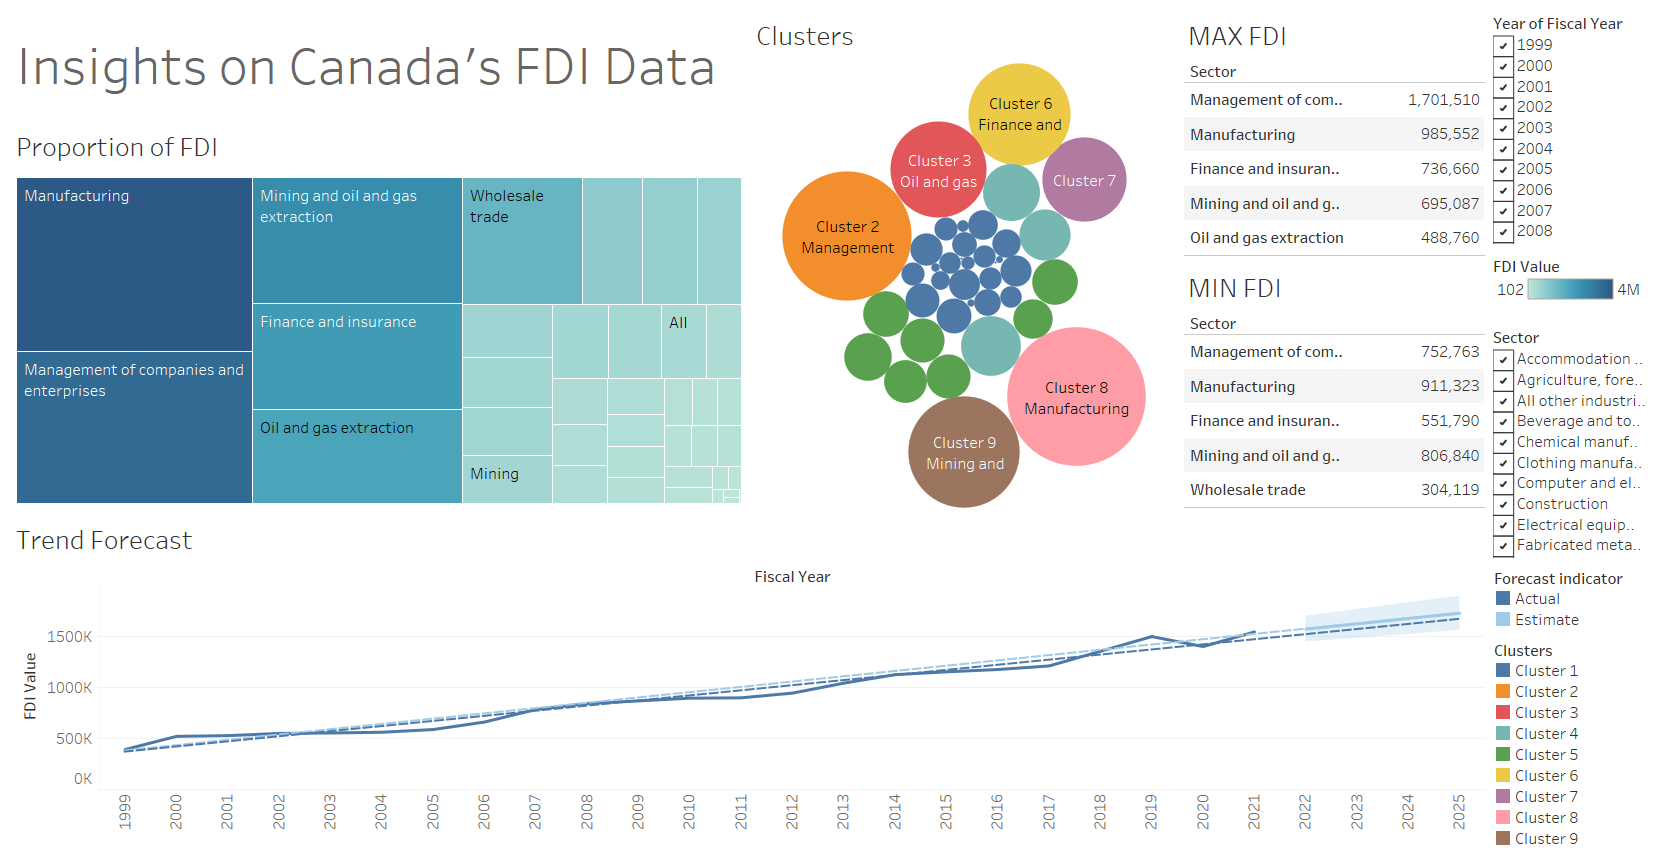

Layout of this report page (visuals, bound fields, positions):
{"tool":"tableau","page":{"name":"Dashboard","canvas":[1000,1000],"units":"permille","ordinal":0},"visuals":[{"type":"text","box":[4.8,9.3,446.9,128.9]},{"type":"worksheet","title":"Clusters","mark":"Circle","box":[451.7,9.3,260.4,585.4]},{"type":"worksheet","title":"MAX FDI","mark":"Automatic","rows":["Calculation_1230045672862732288"],"box":[712.1,9.3,186.5,292.7]},{"type":"filter","title":"Proportion of FDI","param":"[federated.0bxwgq110ndous11dt6810bz9tdn].[yr:Pivot Field Names:ok]","box":[898.6,9.3,96.6,279.3]},{"type":"worksheet","title":"Proportion of FDI","mark":"Automatic","box":[4.8,138.2,446.9,456.4]},{"type":"legend","title":"Proportion of FDI","param":"[federated.0bxwgq110ndous11dt6810bz9tdn].[sum:Pivot Field Values:qk]","box":[898.6,288.6,96.6,84.8]},{"type":"worksheet","title":"MIN FDI","mark":"Automatic","rows":["Calculation_1230045672862732288"],"box":[712.1,302,186.5,292.7]},{"type":"filter","title":"Trend Forecast","param":"[federated.0bxwgq110ndous11dt6810bz9tdn].[none:Calculation_1230045672862732288:n","box":[898.6,373.4,96.6,279.3]},{"type":"worksheet","title":"Trend Forecast","mark":"Automatic","rows":["Pivot Field Values"],"cols":["Pivot Field Names"],"box":[4.8,594.7,893.8,396.1]},{"type":"legend","title":"Trend Forecast","param":"[federated.0bxwgq110ndous11dt6810bz9tdn].[none:Forecast Indicator:nk]","box":[898.6,652.7,96.6,83.6]},{"type":"legend","title":"Clusters","param":"[federated.0bxwgq110ndous11dt6810bz9tdn].[none:AdhocCluster:1:ok]","box":[898.6,736.4,96.6,254.4]}]}

Visuals, with their boxes on the dashboard's canvas, which has no fixed pixel size, in thousandths of its width and height (x1, y1, x2, y2). These are canvas units, not pixel positions in the 1657x861 screenshot, which may show the page scaled, cropped or inside an application window:
text: x1=5 y1=9 x2=452 y2=138
"Clusters" worksheet (Circle marks): x1=452 y1=9 x2=712 y2=595
"MAX FDI" worksheet: x1=712 y1=9 x2=899 y2=302
"Proportion of FDI" filter: x1=899 y1=9 x2=995 y2=289
"Proportion of FDI" worksheet: x1=5 y1=138 x2=452 y2=595
"Proportion of FDI" legend: x1=899 y1=289 x2=995 y2=373
"MIN FDI" worksheet: x1=712 y1=302 x2=899 y2=595
"Trend Forecast" filter: x1=899 y1=373 x2=995 y2=653
"Trend Forecast" worksheet: x1=5 y1=595 x2=899 y2=991
"Trend Forecast" legend: x1=899 y1=653 x2=995 y2=736
"Clusters" legend: x1=899 y1=736 x2=995 y2=991
